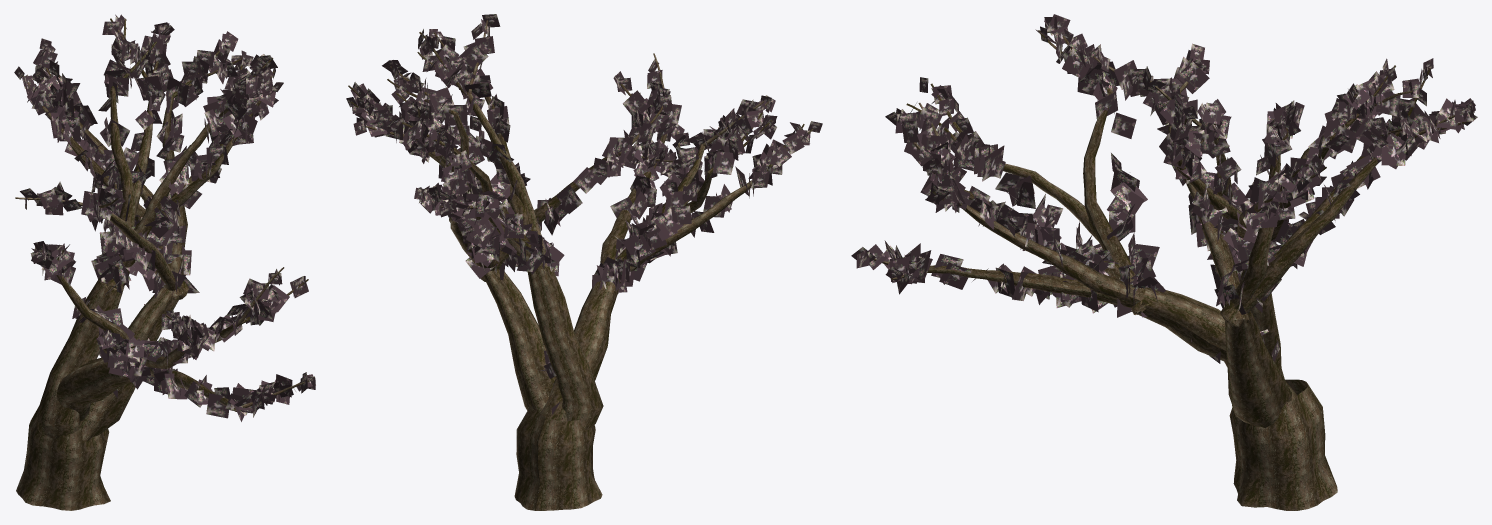
Rendered from blossom_3x_5.glb.
3 renders of one model, left to right at view 1: azimuth 30°, elevation 25°; view 2: azimuth 150°, elevation 25°; view 3: azimuth 270°, elevation 25°, orthographic. The views are drawn at different scales.
Visible parts, largest first — view 1: blossom; view 2: blossom; view 3: blossom.
Part boxes in pixels (x1=…): blossom: x1=14, y1=14, x2=315, y2=510; blossom: x1=346, y1=14, x2=822, y2=510; blossom: x1=851, y1=14, x2=1477, y2=510.
Bounding box in the file's own units: 42.42 × 50.76 × 58.43.
2 materials, 2 textured.
